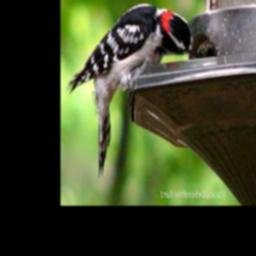Woodpecker: (65, 1, 200, 180)
